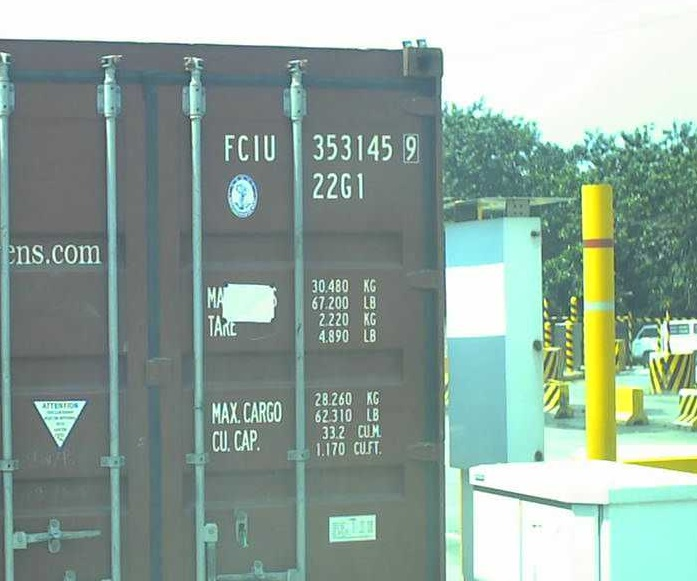container_door: (5, 47, 445, 581)
